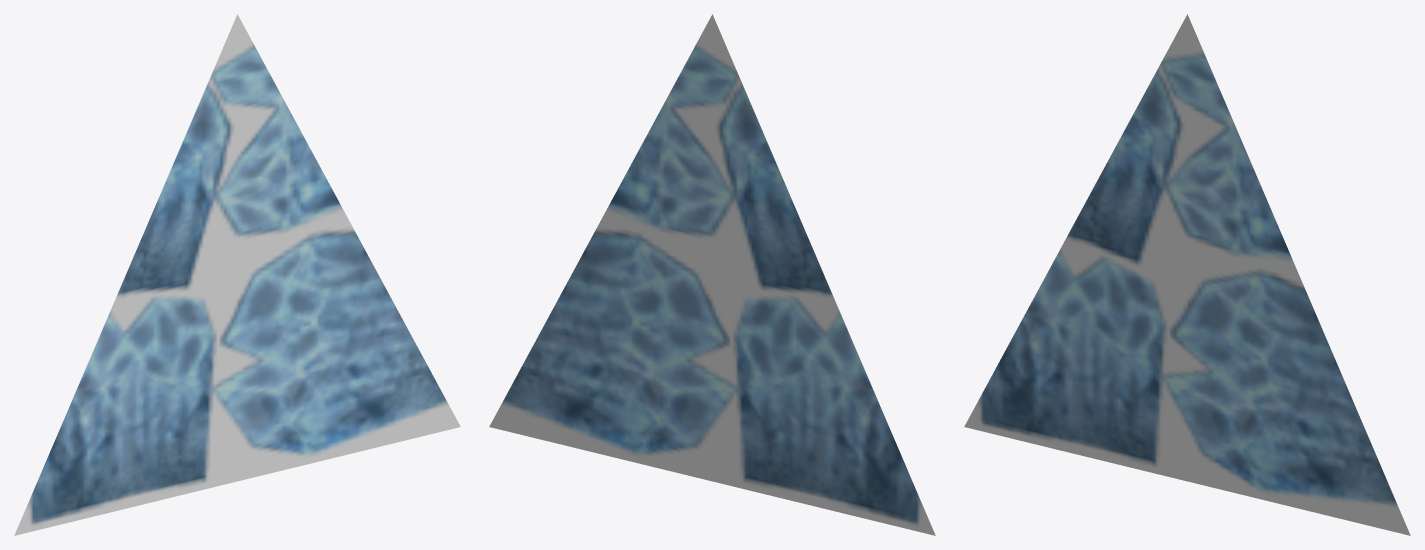
The model's file is effect_caiwenji_target.FBX.
3 views of the same model, side by side, from view 1: azimuth 30°, elevation 25°; view 2: azimuth 150°, elevation 25°; view 3: azimuth 330°, elevation 25° (orthographic).
Visible parts, largest first — view 1: effect_caiwenji_target; view 2: effect_caiwenji_target; view 3: effect_caiwenji_target.
Part boxes in pixels (bbox=[...]): effect_caiwenji_target: bbox=[14, 14, 460, 535]; effect_caiwenji_target: bbox=[489, 14, 935, 535]; effect_caiwenji_target: bbox=[964, 14, 1410, 535].
Size of the model in its own units: 4 by 4 by 1.75e-07.
1 material, 1 textured.
